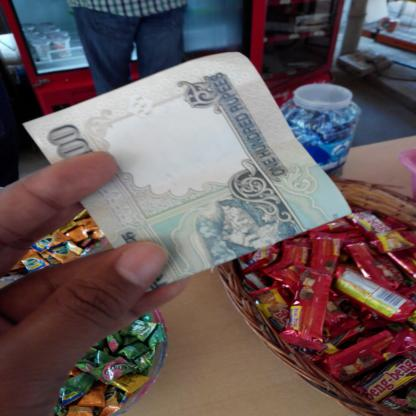Old100Back: (21, 51, 354, 294)
